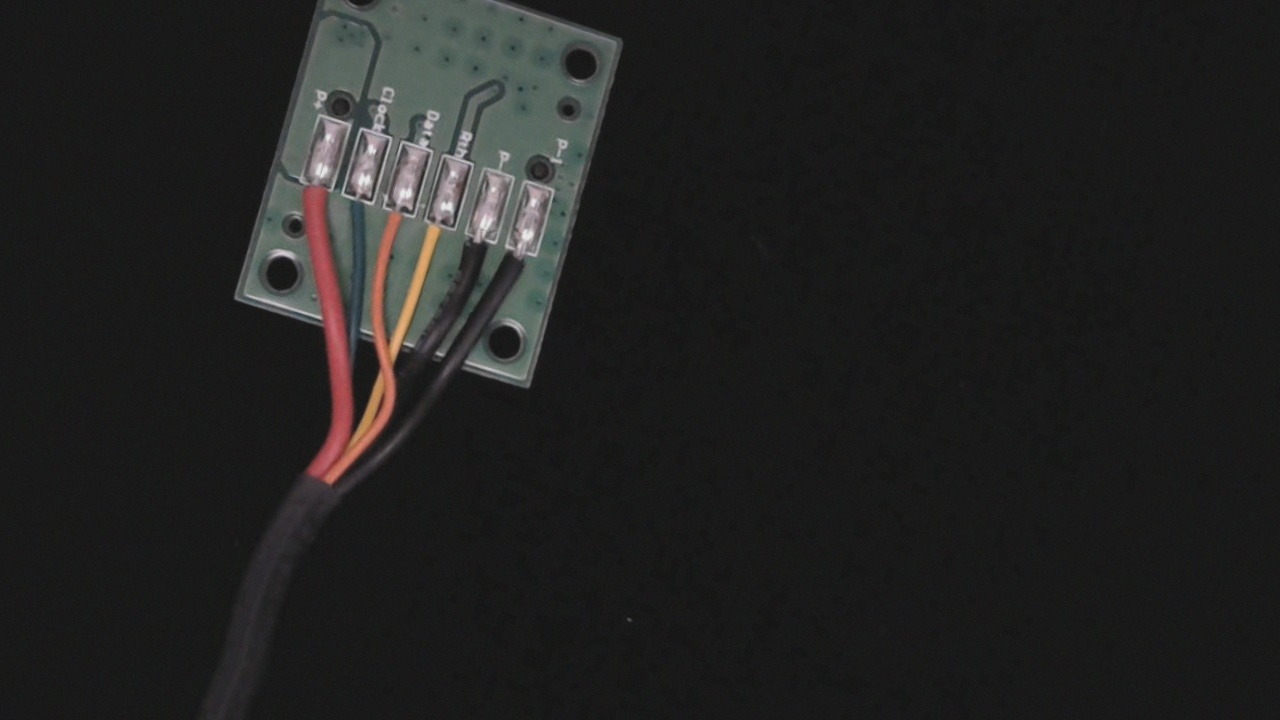Black: (447, 217, 501, 300)
Black1: (489, 228, 546, 311)
Green: (327, 176, 380, 246)
Orange: (367, 187, 421, 261)
Red: (286, 163, 340, 237)
Yellow: (408, 201, 460, 278)
